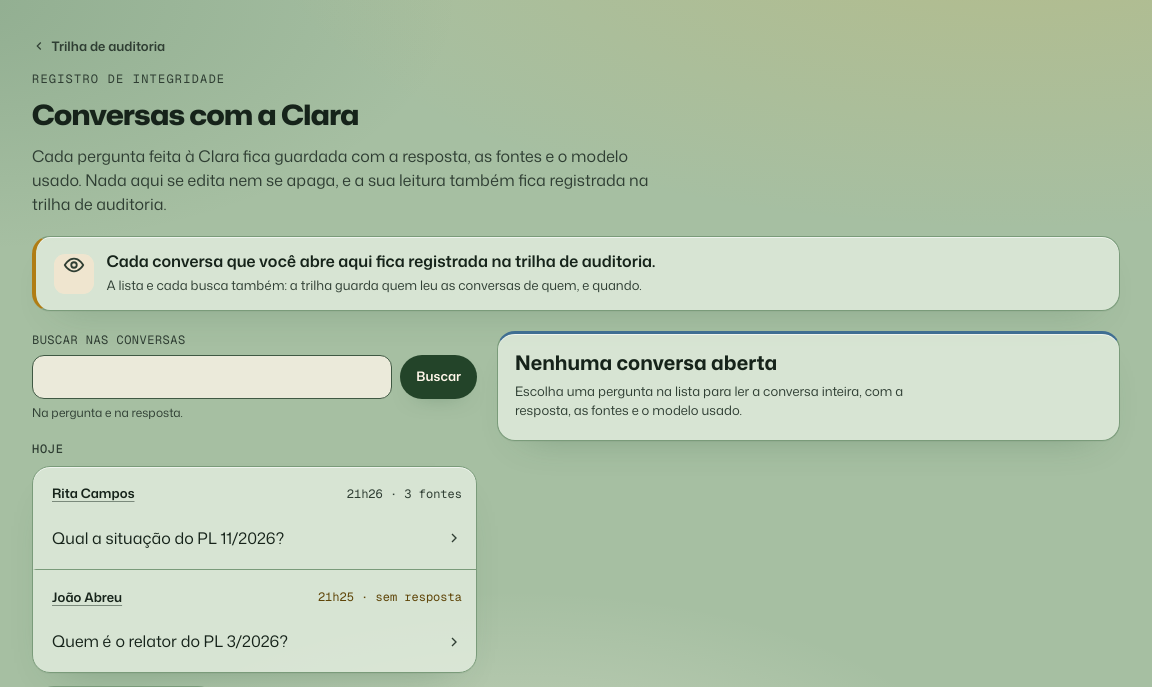
Test case: Conversas com a Clara (/auditoria/clara) › a busca pede 2 letras, procura na pergunta e na resposta e diz quando não acha
Expected: the list named "Hoje" is shown, [32, 466, 477, 673]
Type " v " into the search field labelled "Buscar nas conversas" at (212, 377), box [32, 355, 392, 399]
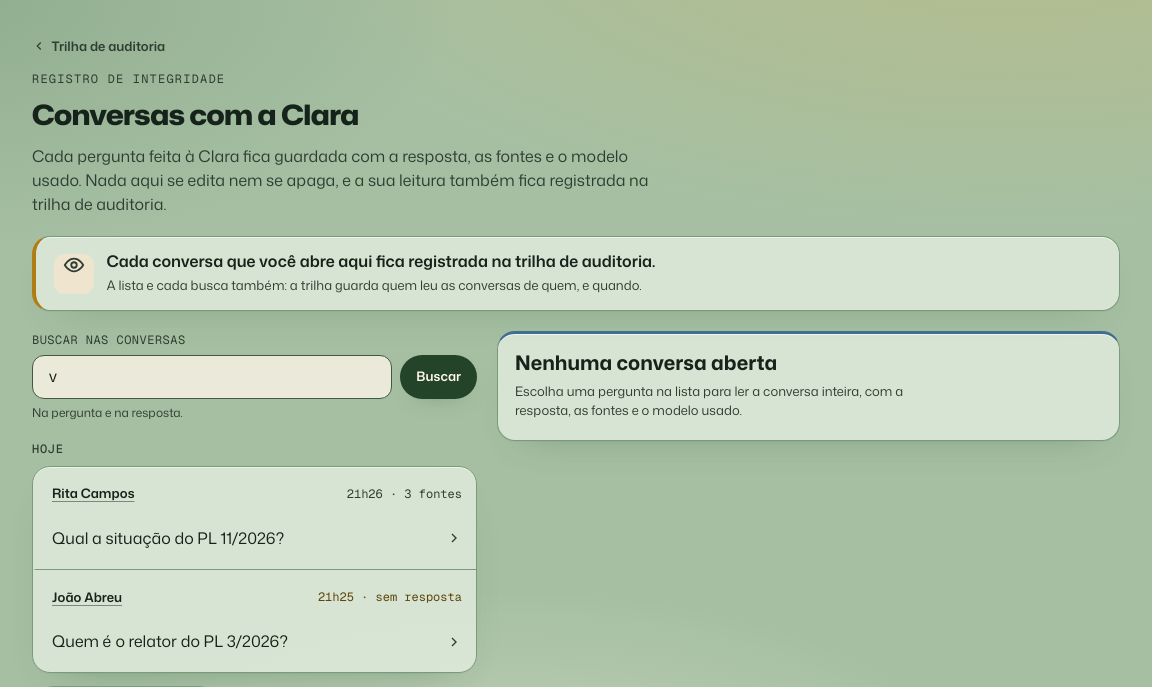
Click the button "Buscar" at (439, 377), box [400, 355, 477, 399]
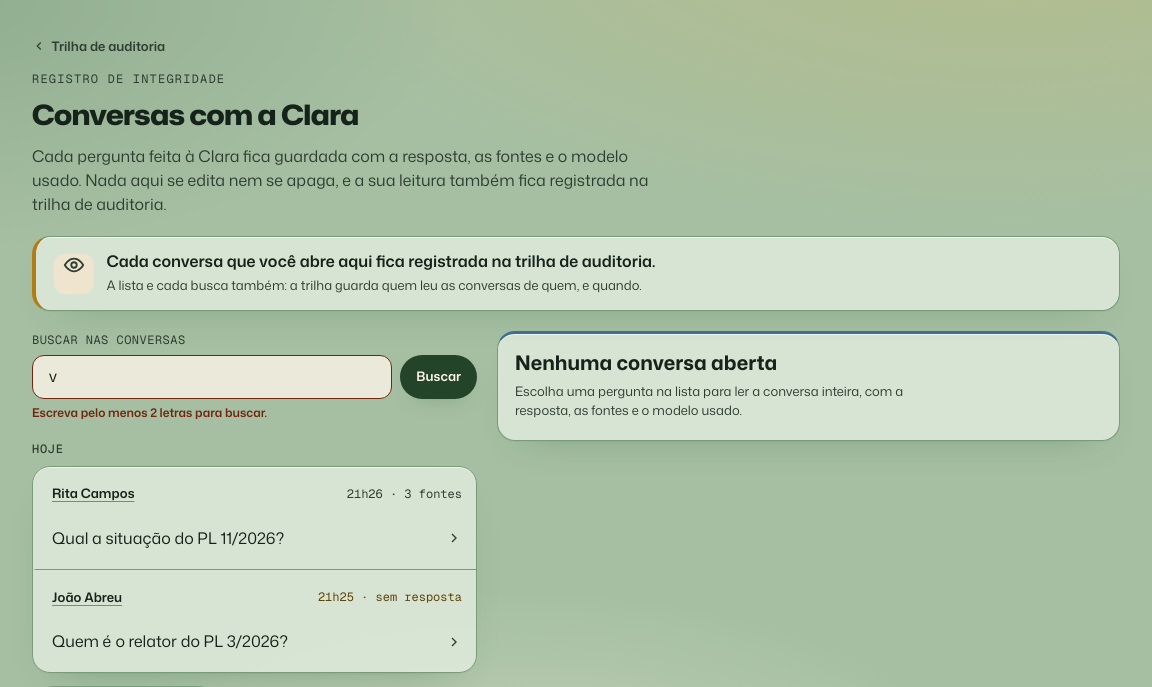
Now the message reads "Escreva pelo menos 2 letras para buscar.", box [32, 404, 267, 421]
Replace the text in the search field labelled "Buscar nas conversas" with "orçamento" at (212, 377), box [32, 355, 392, 399]
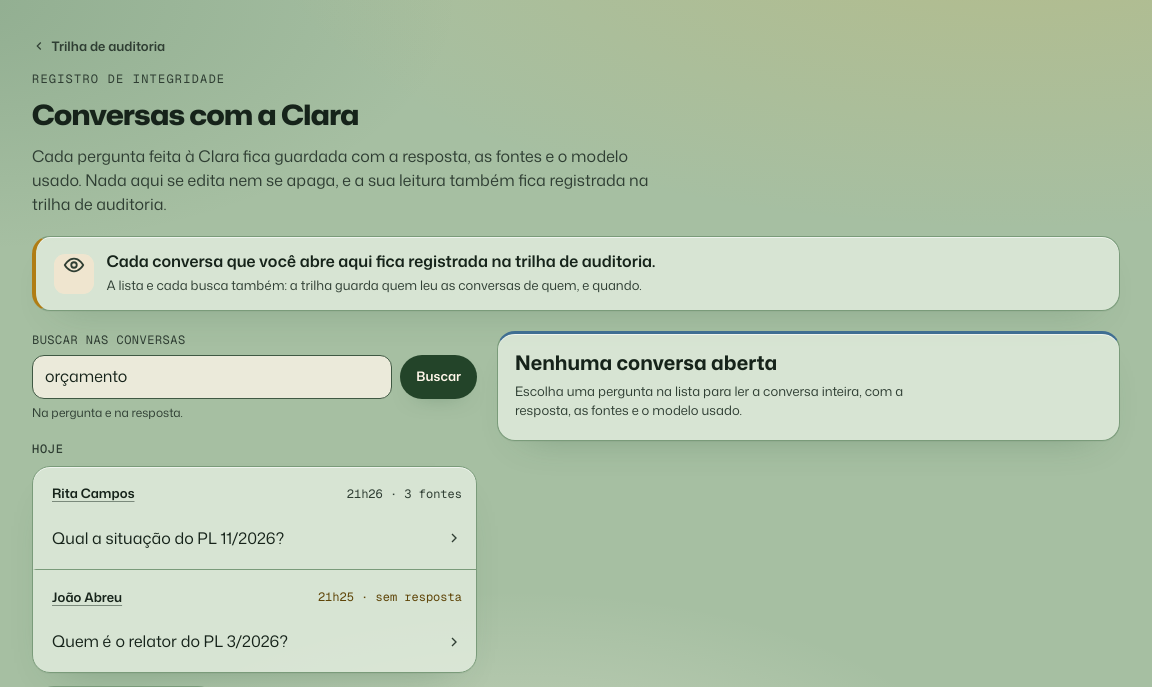
Click the button "Buscar" at (439, 377), box [400, 355, 477, 399]
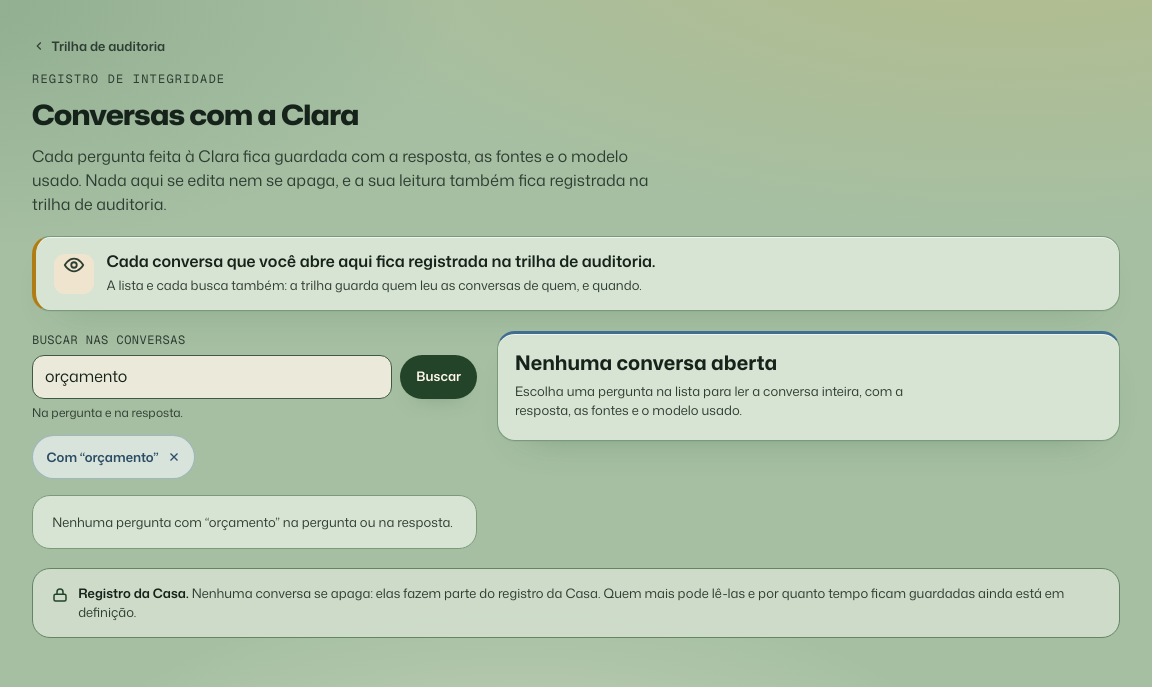
Now the text "Nenhuma pergunta com “orçamento” na pergunta ou na resposta." is shown, box [32, 495, 477, 549]
tirar a busca volta à lista inteira
Click the button with aria-label "Tirar a busca por “orçamento”" at (114, 457), box [32, 435, 195, 479]
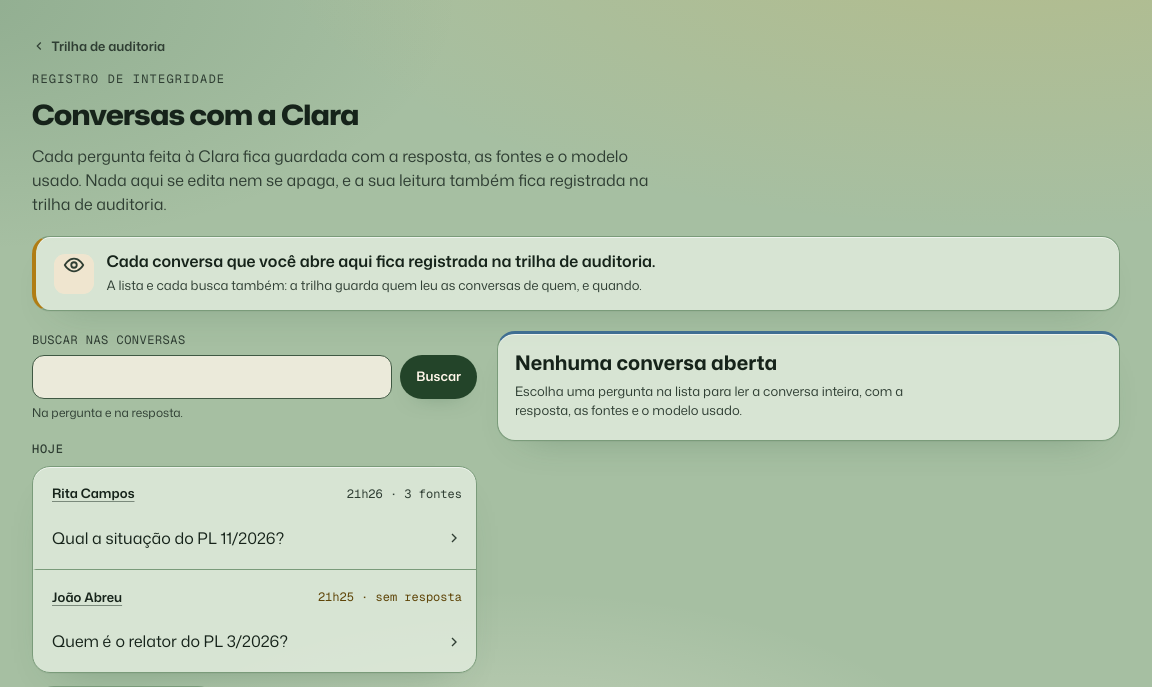
Now the list named "Hoje" is shown, box [32, 466, 477, 673]
Now the search field labelled "Buscar nas conversas" is empty, box [32, 355, 392, 399]
